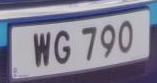0: (117, 16, 136, 58)
7: (80, 22, 101, 65)
9: (99, 19, 118, 62)
G: (52, 27, 74, 69)
W: (30, 27, 54, 71)
